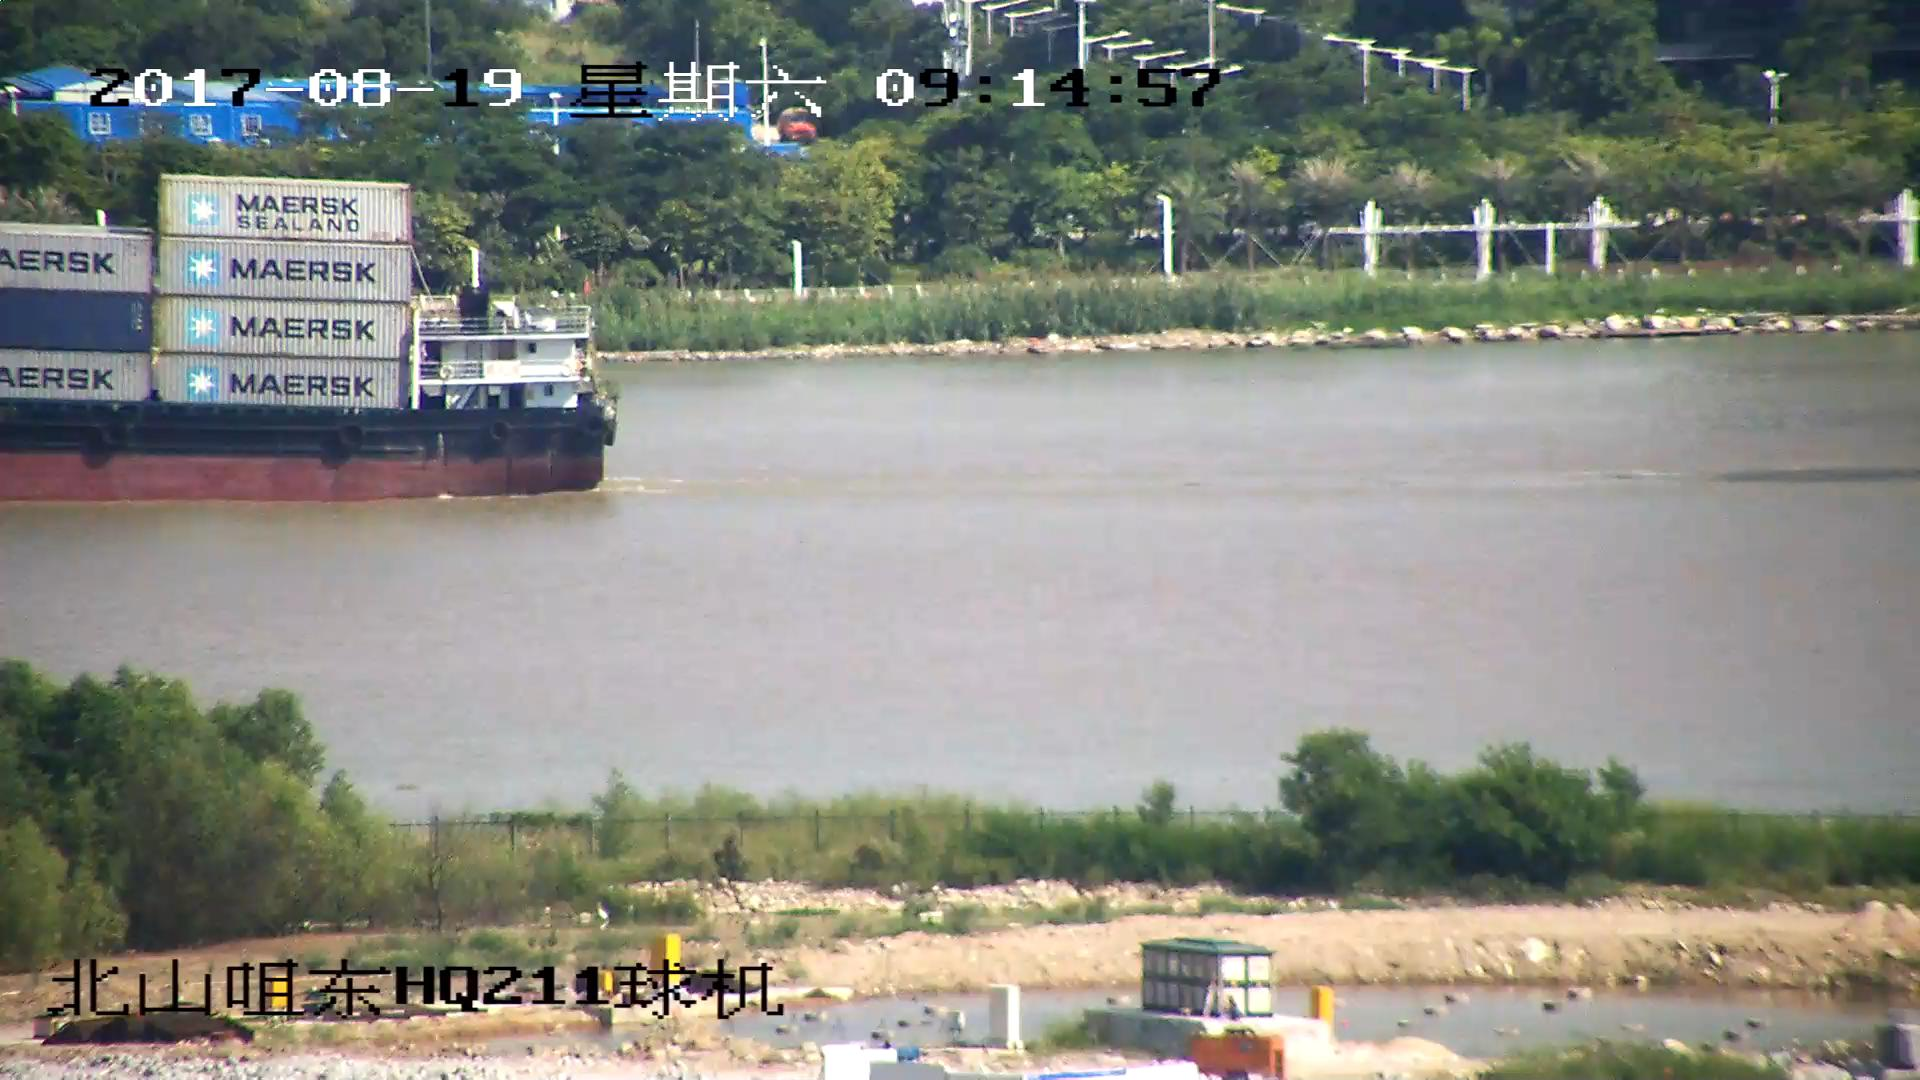container ship: (1, 167, 625, 497)
